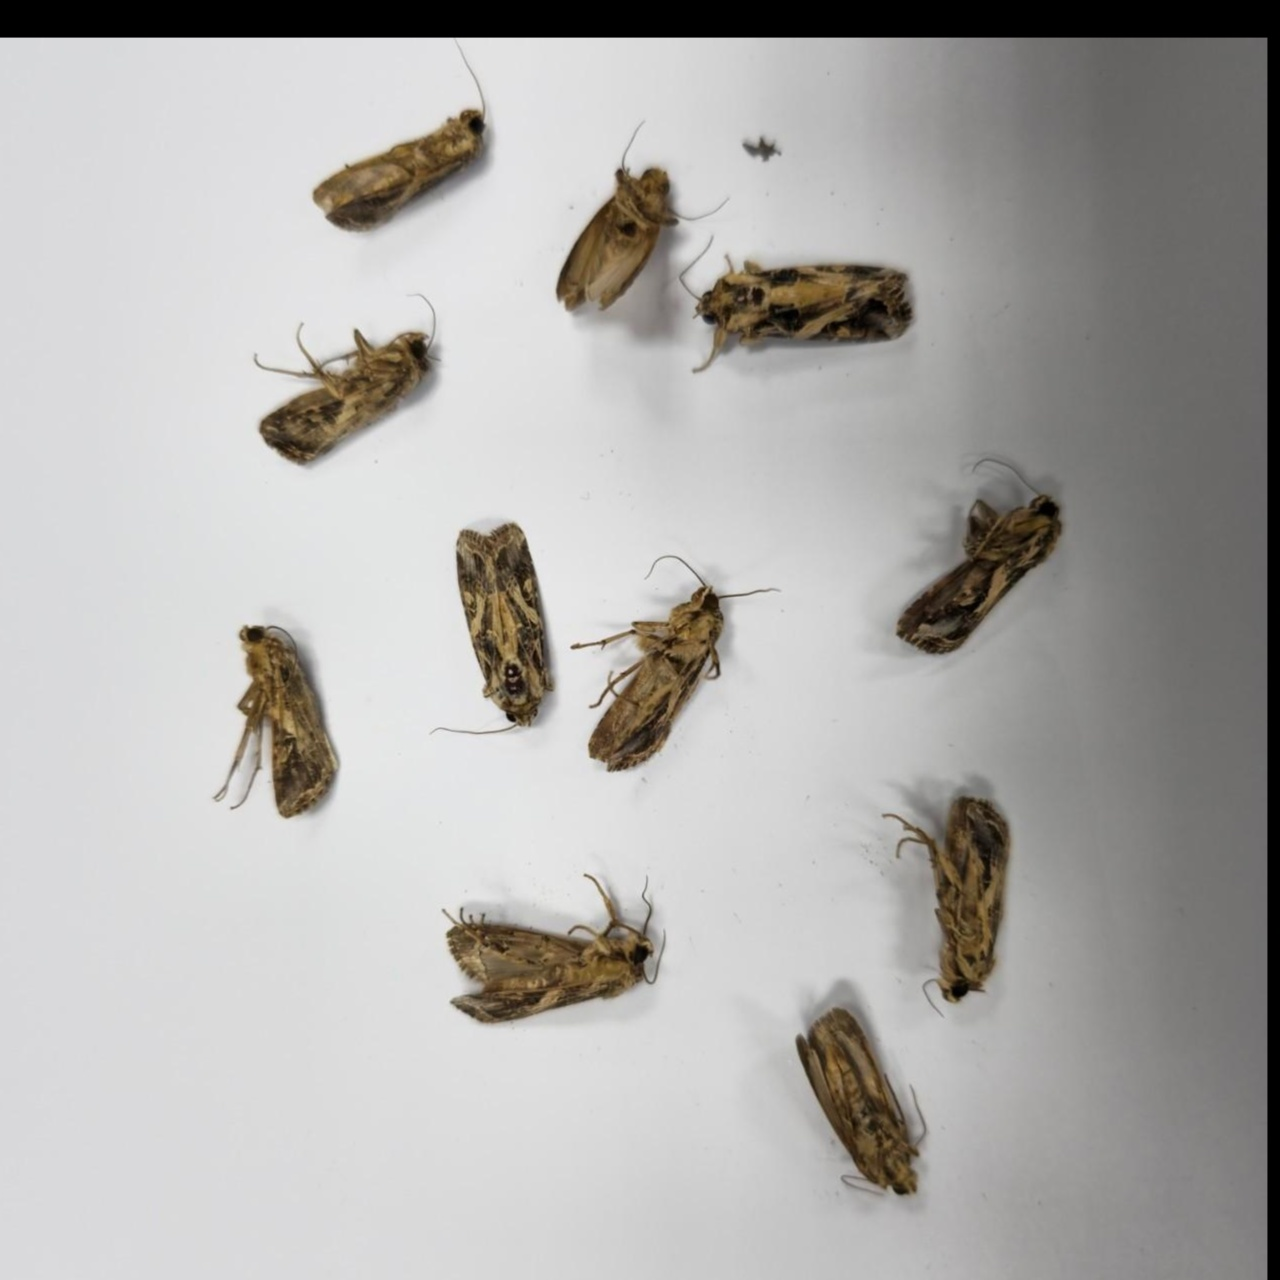Spodoptera litura: (568, 554, 781, 771), (441, 873, 667, 1023), (313, 38, 488, 231), (554, 120, 729, 312), (679, 234, 913, 373), (894, 458, 1061, 653), (254, 292, 442, 464), (881, 796, 1012, 1017), (429, 522, 554, 733), (795, 1006, 926, 1194), (213, 625, 340, 817)
